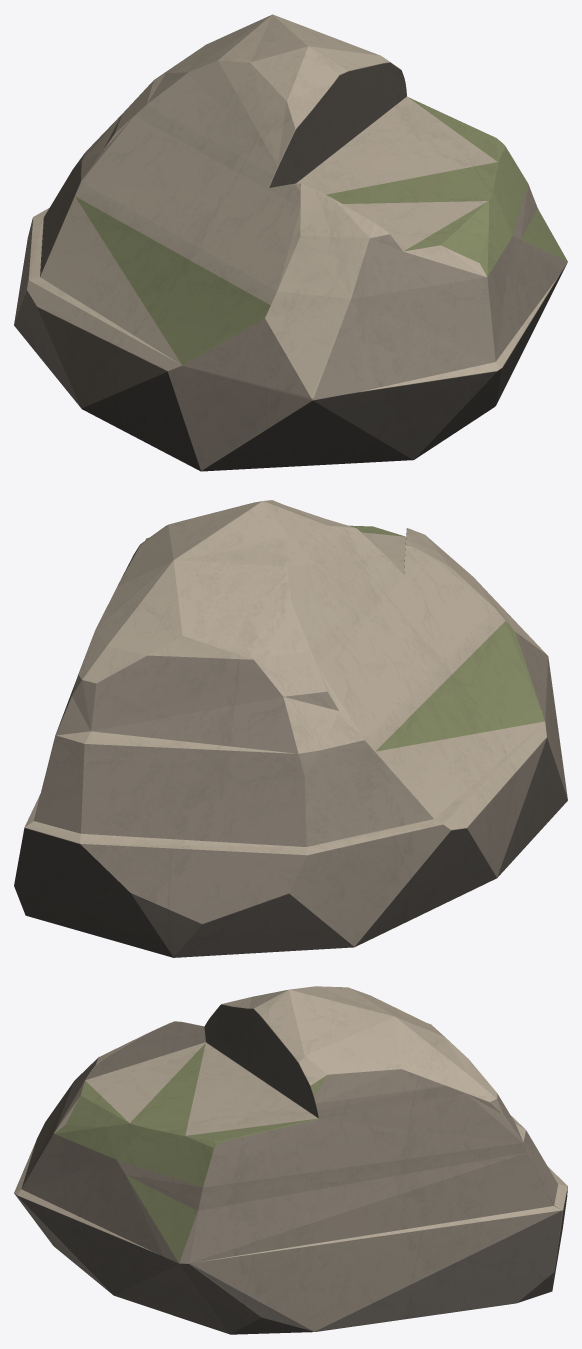
3 views of the same model, one above another, from view 1: azimuth 30°, elevation 25°; view 2: azimuth 150°, elevation 25°; view 3: azimuth 270°, elevation 25° (orthographic). The views are drawn at different scales.
Visible parts, largest first — view 1: rock; view 2: rock; view 3: rock.
Boxes of the visible parts, x1,y1,x2,y2 form: rock: (14, 14, 567, 471); rock: (14, 500, 567, 957); rock: (14, 986, 567, 1334).
Bounding box in the file's own units: 2.2 × 1.5 × 2.8.
4 materials, 4 textured.
